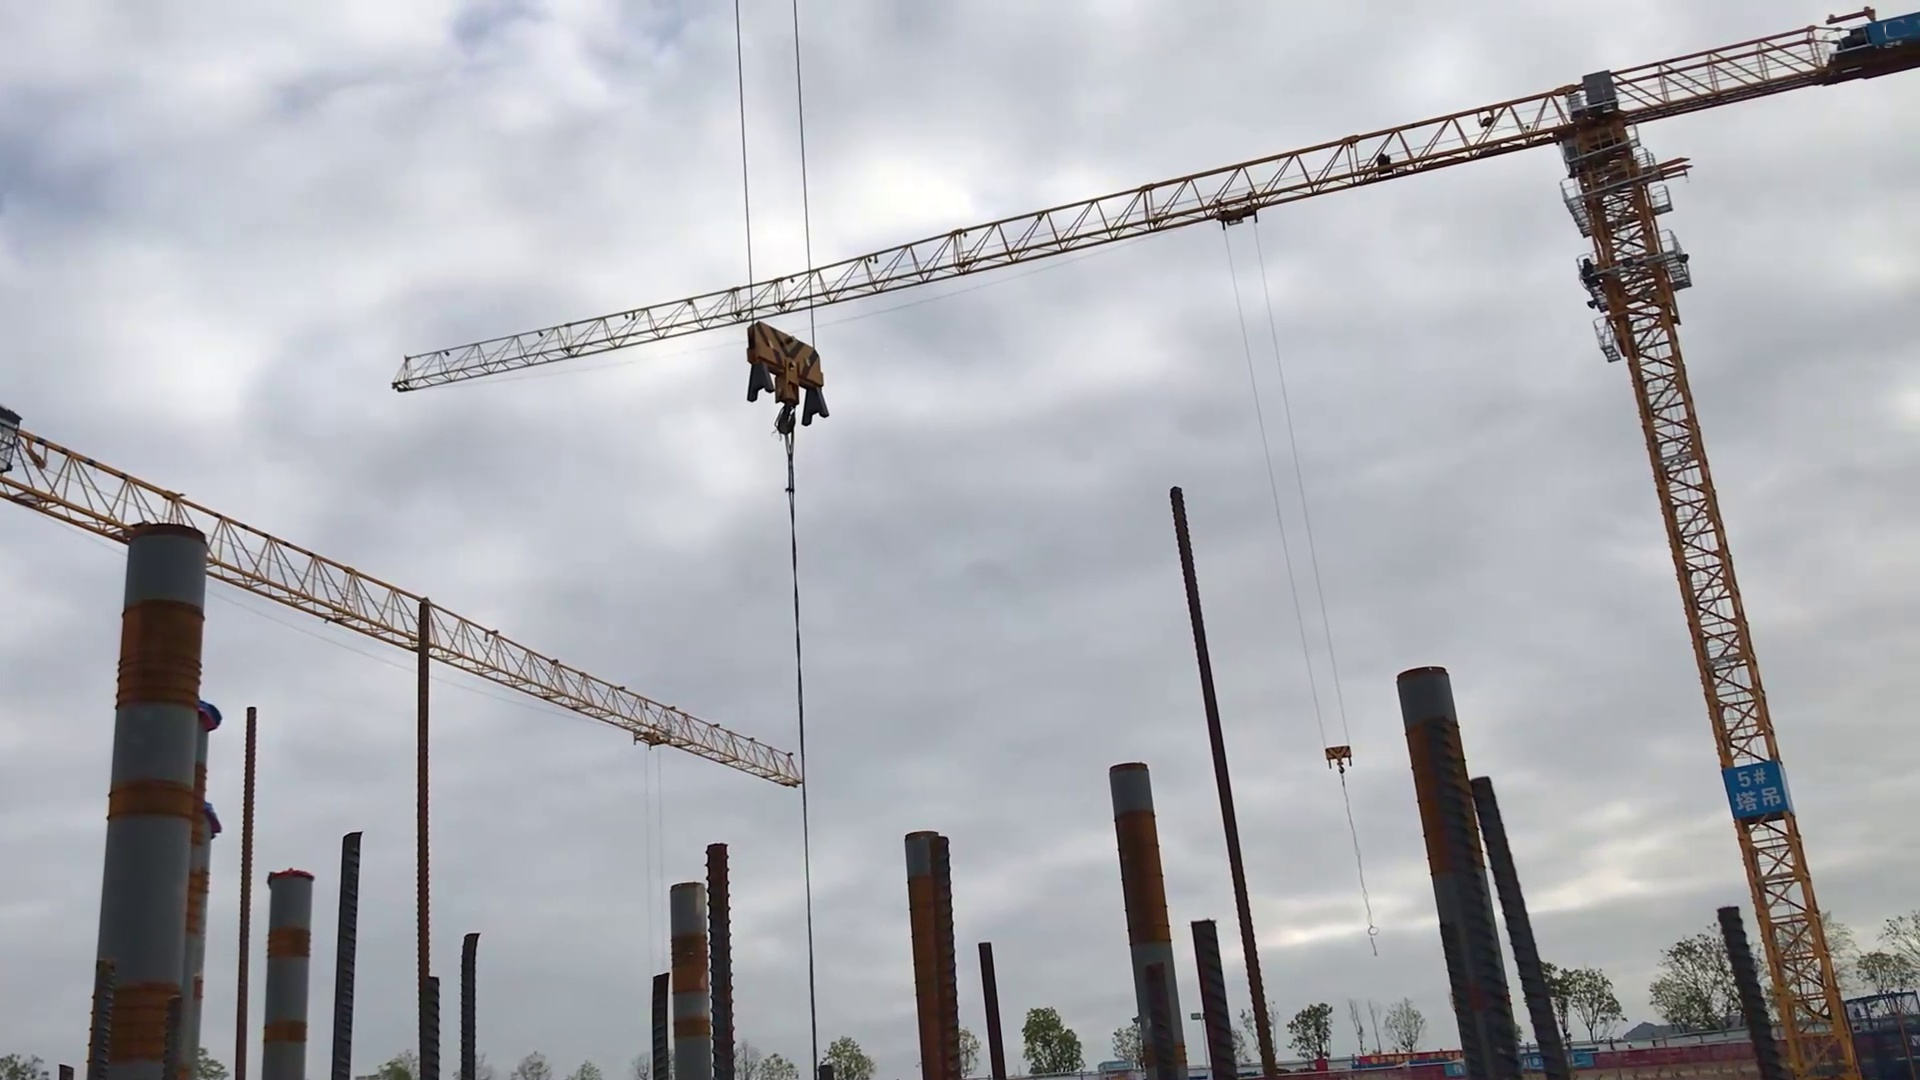fence: (1607, 1019, 1745, 1080)
hook: (733, 314, 844, 448), (1320, 741, 1364, 781)
slogan: (1721, 758, 1801, 829)
